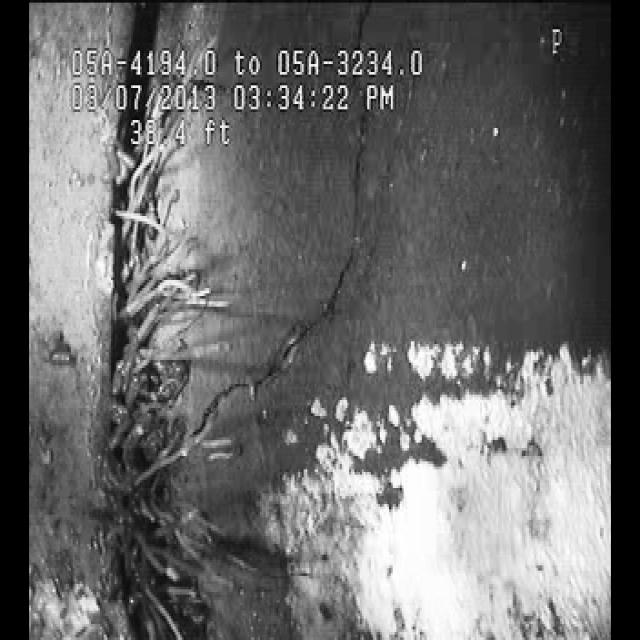Crack: (218, 136, 386, 468)
